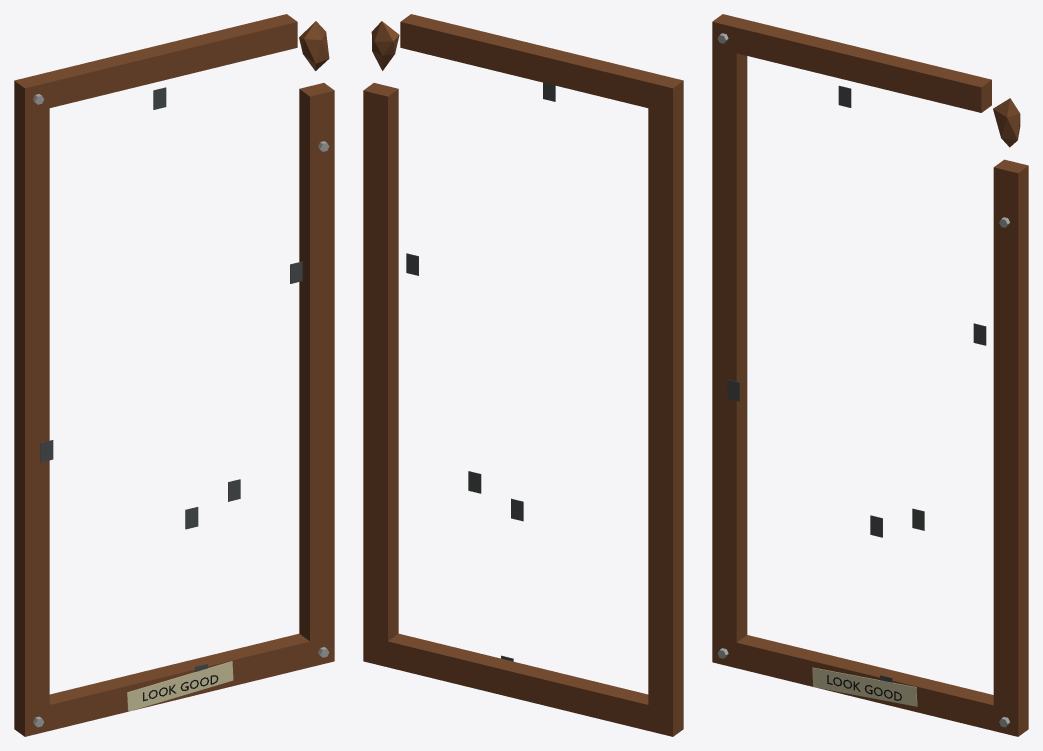
File: mirror_frame.glb
3 views of the same model, side by side, from view 1: azimuth 30°, elevation 25°; view 2: azimuth 150°, elevation 25°; view 3: azimuth 330°, elevation 25° (orthographic).
Parts seen in each view (by area): view 1: mirror_frame; view 2: mirror_frame; view 3: mirror_frame.
Boxes of the visible parts, x1,y1,x2,y2 form: mirror_frame: [14, 14, 334, 736]; mirror_frame: [363, 14, 683, 736]; mirror_frame: [712, 14, 1028, 736].
Size of the model in its own units: 1 by 2 by 0.075.
